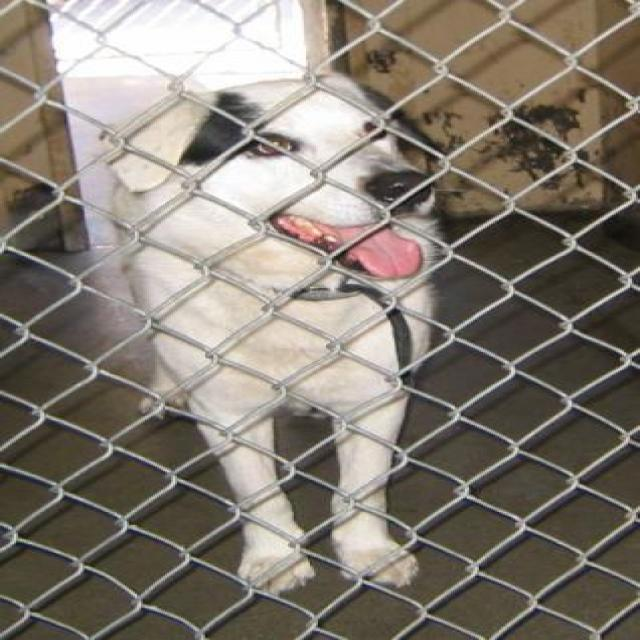dogs: (104, 71, 432, 591)
